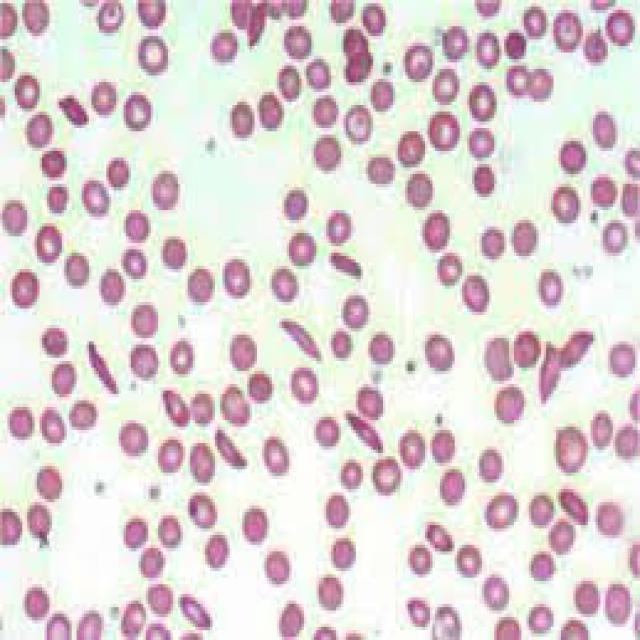sickle cell: (338, 400, 393, 466), (274, 318, 326, 378), (84, 338, 124, 410)
